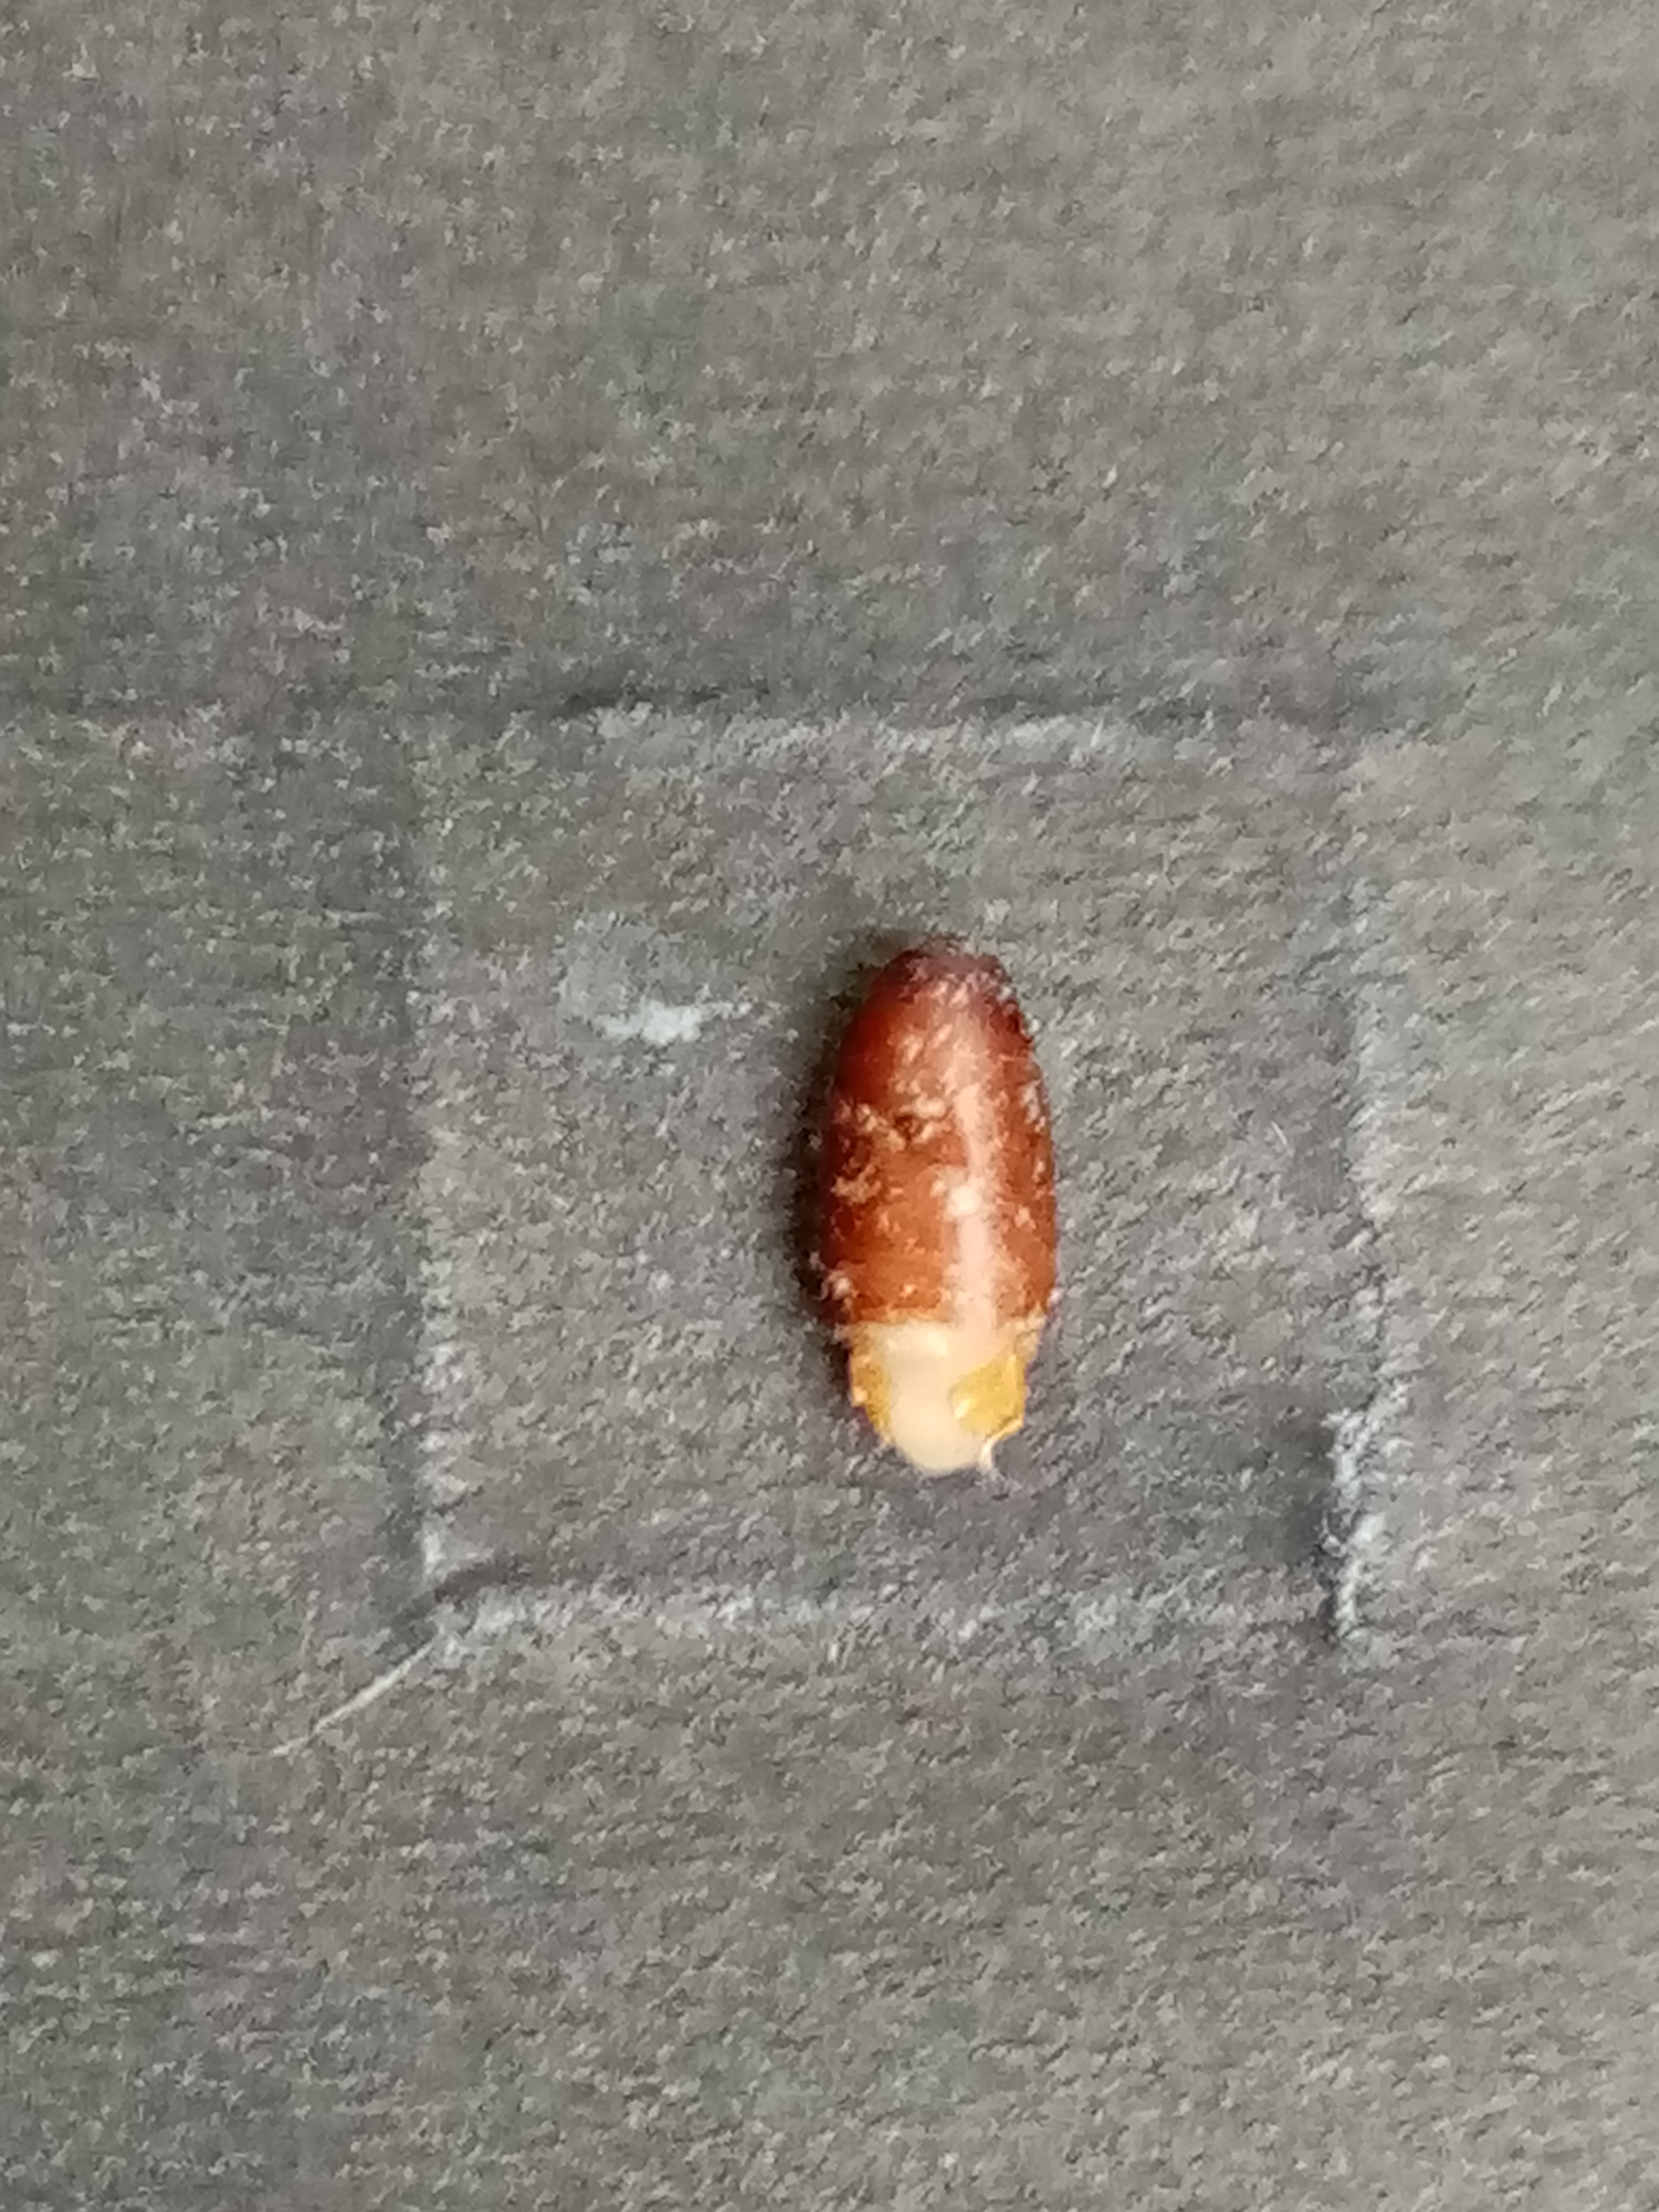pupa: (838, 1324, 1037, 1484)
